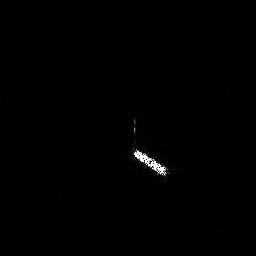ship: (132, 148, 168, 176)
